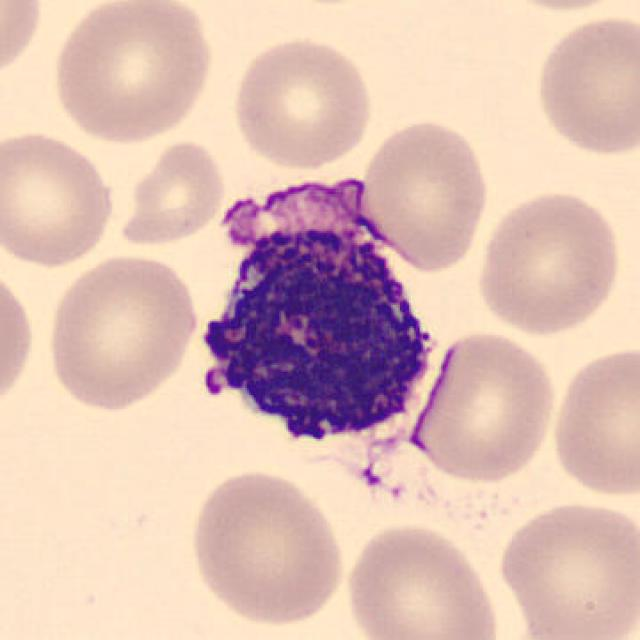Basophil: (182, 160, 454, 478)
RBC: (183, 464, 350, 629), (41, 249, 201, 414), (46, 0, 218, 146), (405, 326, 560, 487), (473, 185, 626, 339), (356, 115, 492, 273), (492, 495, 638, 640), (227, 32, 377, 173), (341, 518, 505, 640), (0, 125, 121, 270), (530, 11, 638, 160), (546, 342, 638, 501), (112, 136, 229, 250), (0, 263, 39, 418), (0, 0, 48, 86), (487, 0, 631, 14)
